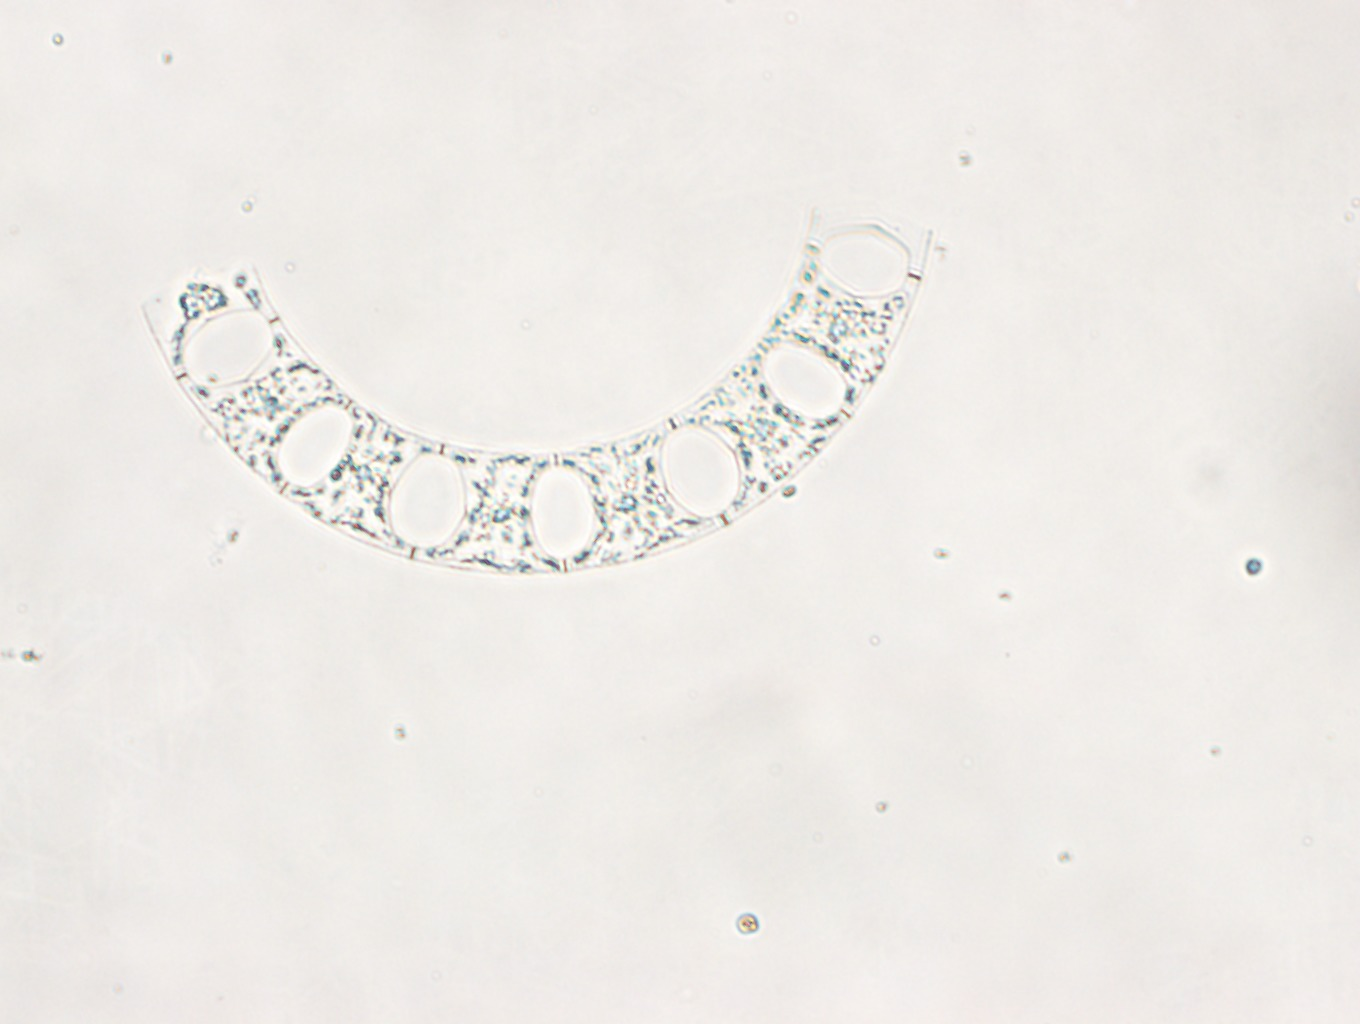eucampia: (140, 195, 932, 577)
